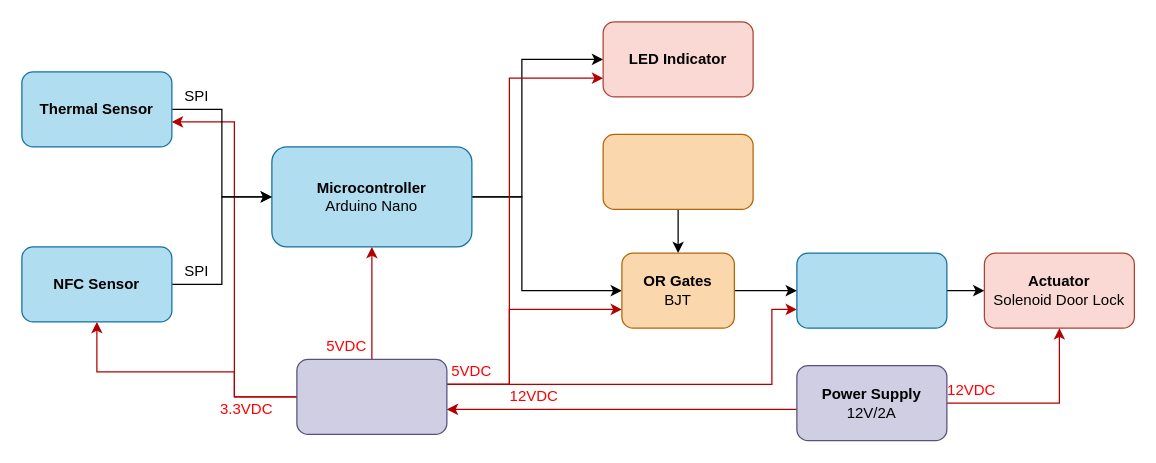
This 1156x463 diagram has some shape labels left out. The box of each missing label's shape, as (x1, y1, x2, y2) in pixels:
PUSH BUTTON: (602, 133, 753, 209)
Relay 5V DC: (796, 252, 947, 328)
Voltage Regulator: (296, 358, 447, 434)
